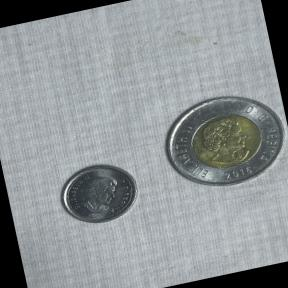coin: (150, 78, 288, 214), (45, 146, 150, 237)
